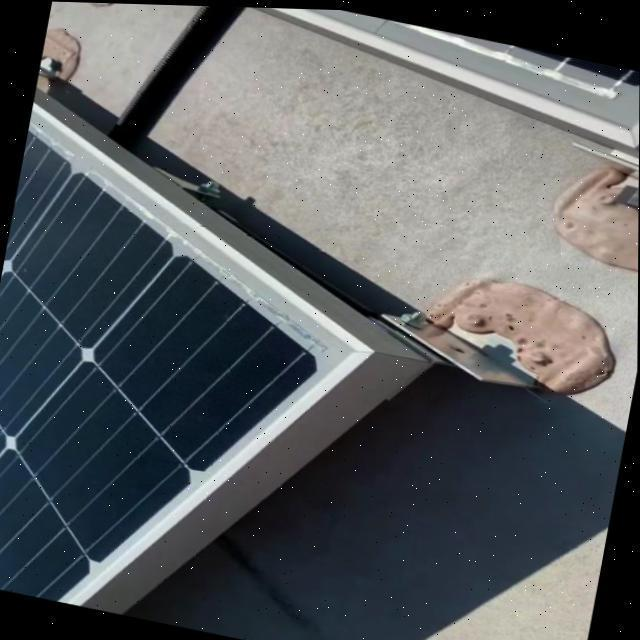Normal Solar Panel: (0, 94, 406, 640)
